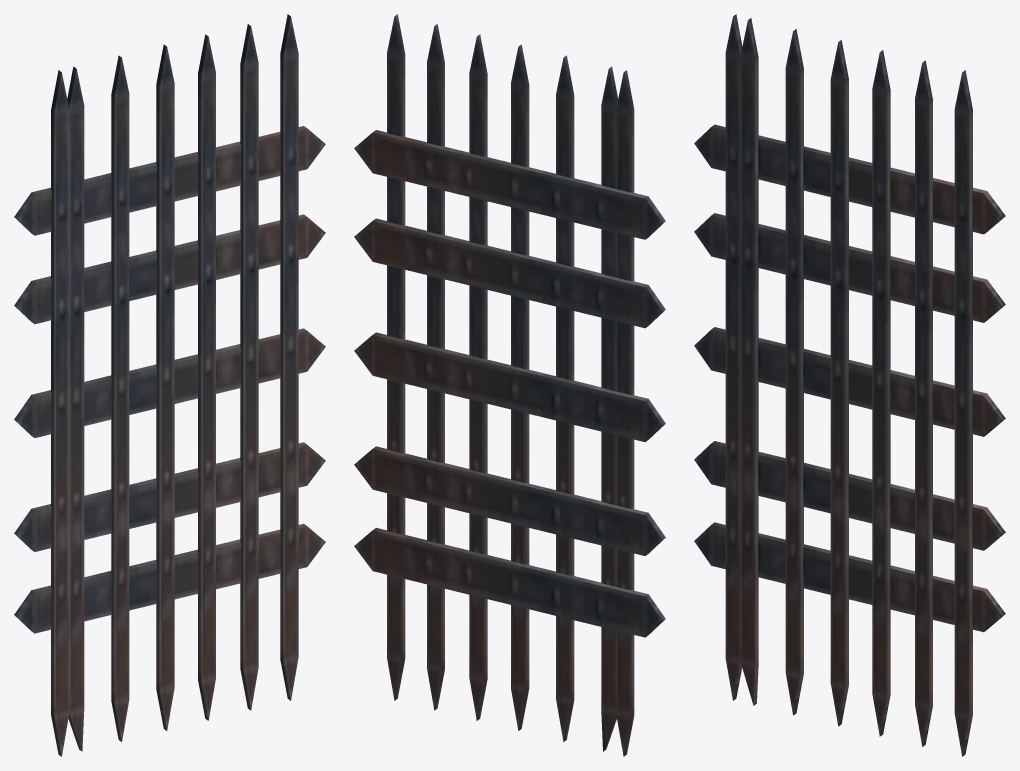
Rendered from castleGate (2).fbx.
3 views of the same model, side by side, from view 1: azimuth 30°, elevation 25°; view 2: azimuth 150°, elevation 25°; view 3: azimuth 330°, elevation 25° (orthographic).
Visible parts, largest first — view 1: castleGate (2); view 2: castleGate (2); view 3: castleGate (2).
Boxes of the visible parts, <box> form: castleGate (2): <box>14,14,325,756</box>; castleGate (2): <box>354,14,665,756</box>; castleGate (2): <box>694,14,1005,756</box>.
Size of the model in its own units: 4.55 by 9.64 by 0.1553.
